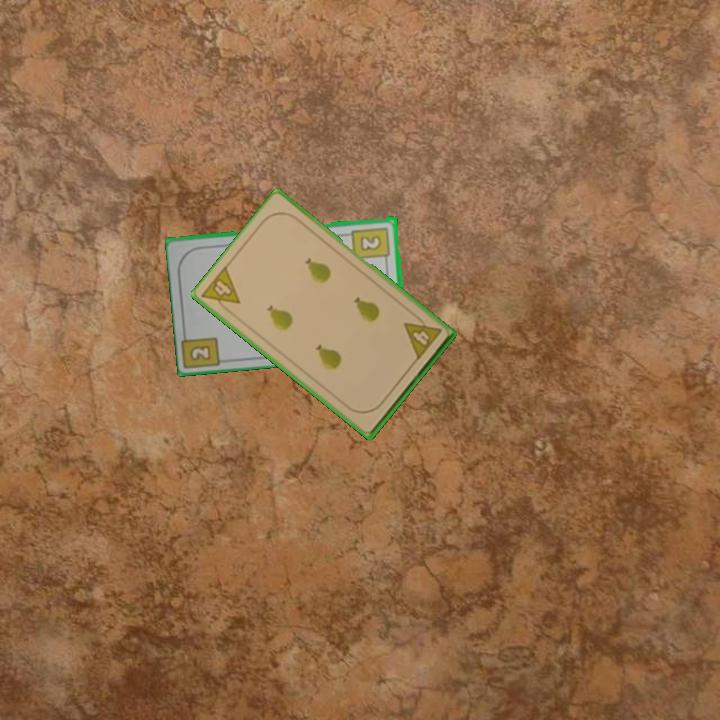2b: (349, 223, 393, 265), (186, 341, 214, 364)
4p: (198, 262, 243, 318), (400, 310, 444, 363)
